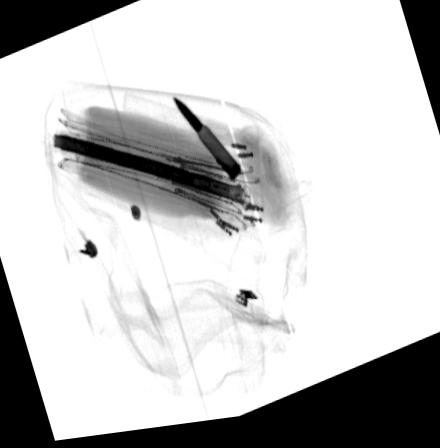Bullet: (170, 99, 243, 189)
